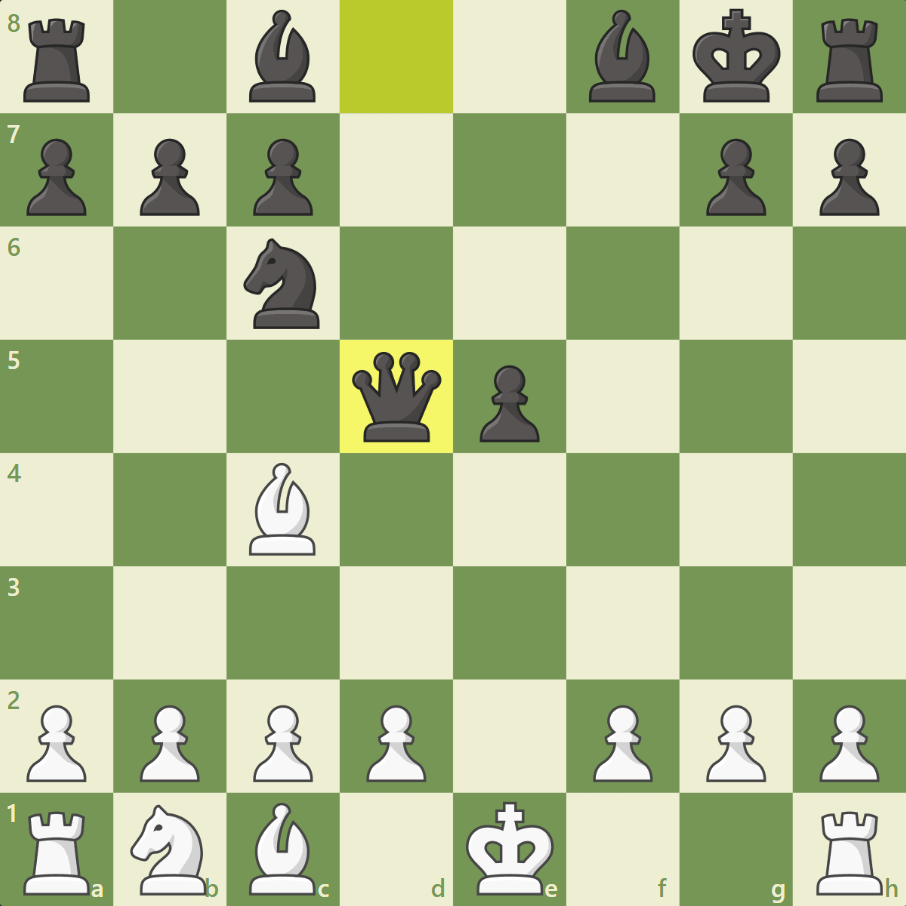B: (243, 459, 320, 561), (249, 798, 318, 900)
K: (463, 800, 560, 899)
N: (127, 802, 209, 901)
P: (23, 702, 89, 788), (136, 699, 202, 785), (251, 700, 317, 786), (362, 700, 428, 786), (590, 700, 656, 786), (702, 700, 768, 786), (815, 698, 881, 784)
R: (812, 807, 889, 901), (18, 805, 94, 900)
b: (584, 5, 661, 106), (246, 7, 318, 106)
k: (688, 5, 784, 107)
n: (239, 235, 324, 333)
p: (477, 362, 544, 447), (700, 135, 767, 220), (817, 136, 884, 221), (250, 134, 317, 219), (135, 134, 202, 219), (21, 135, 88, 220)
q: (349, 347, 446, 448)
r: (20, 14, 93, 107), (814, 16, 890, 105)
